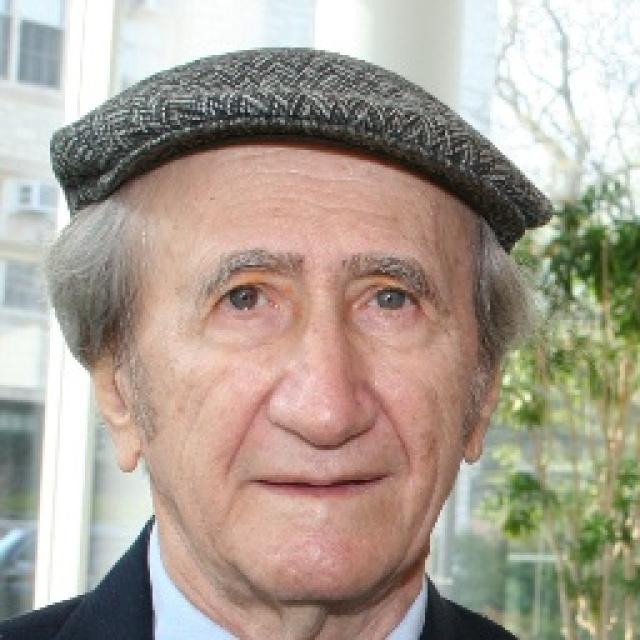earlobe: (83, 328, 141, 474), (462, 314, 512, 466)
